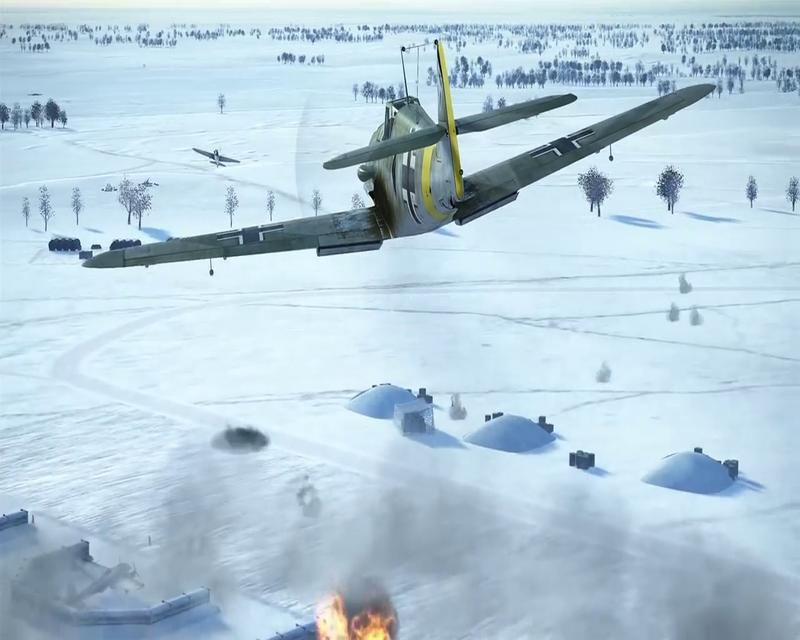UAV: (81, 40, 715, 268)
